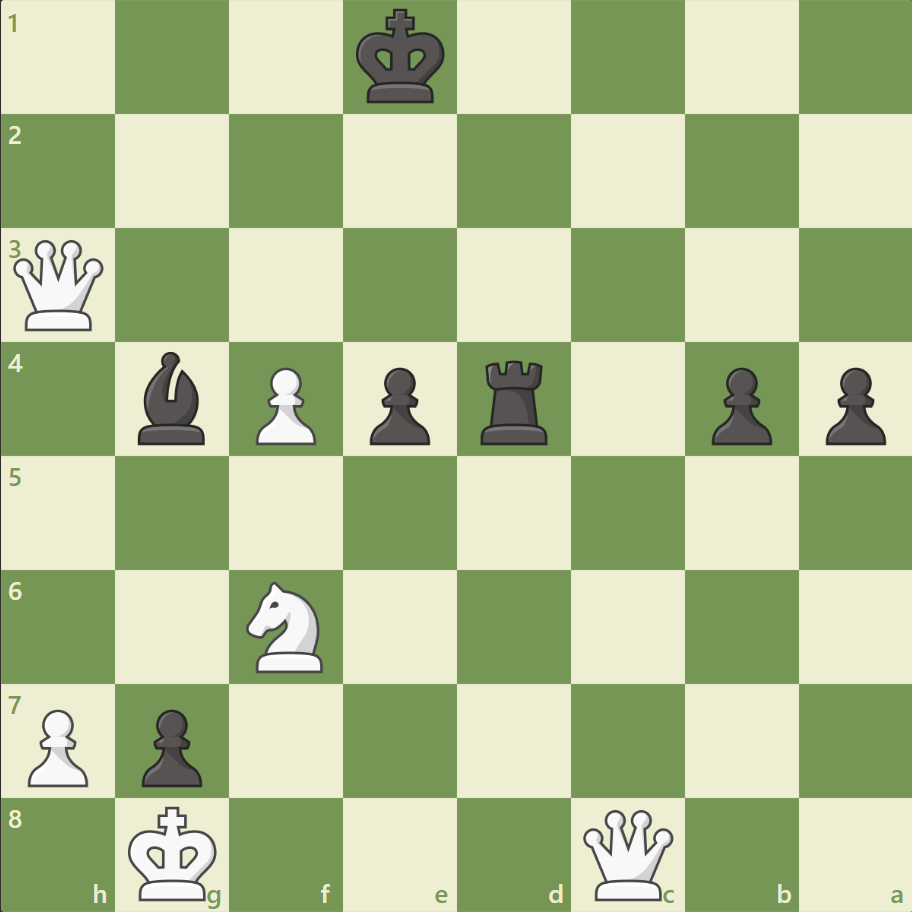K: (124, 798, 224, 906)
N: (238, 575, 335, 677)
P: (20, 700, 95, 791), (247, 359, 322, 450)
Q: (578, 804, 677, 903), (10, 236, 109, 335)
b: (131, 347, 215, 449)
k: (351, 4, 451, 112)
p: (133, 700, 208, 791), (701, 359, 776, 450), (815, 359, 889, 450), (361, 359, 435, 450)
r: (473, 352, 556, 449)
